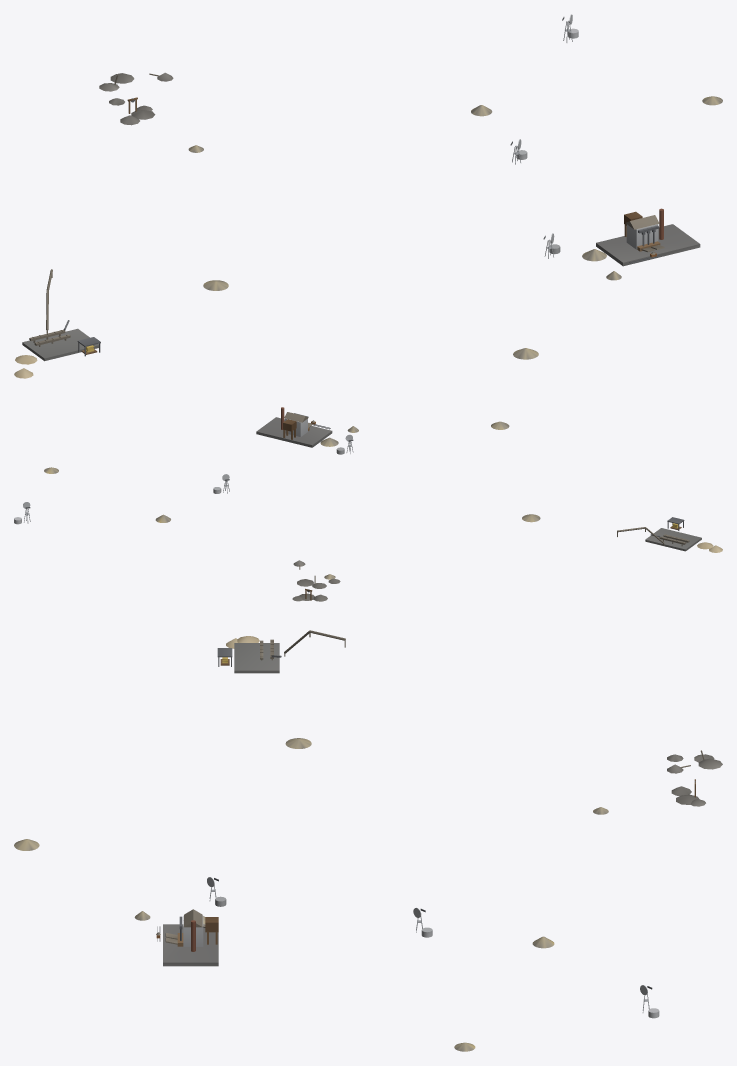
The model's file is Theme_P1.fbx.
3 views of the same model, one above another, from view 1: azimuth 30°, elevation 25°; view 2: azimuth 150°, elevation 25°; view 3: azimuth 270°, elevation 25° (orthographic). The views are drawn at different scales.
Parts seen in each view (by area): view 1: Theme.StampMill, Theme.Sluices, Theme.Diggings; view 2: Theme.StampMill, Theme.Sluices, Theme.Diggings; view 3: Theme.StampMill, Theme.Sluices, Theme.Diggings.
Part boxes in pixels (x1,y1,x2,y2): Theme.StampMill: (596, 208, 700, 266); Theme.Sluices: (22, 320, 98, 361); Theme.Diggings: (99, 72, 173, 125); Theme.StampMill: (256, 407, 332, 447); Theme.Sluices: (645, 528, 701, 551); Theme.Diggings: (292, 560, 340, 601); Theme.StampMill: (163, 909, 218, 966); Theme.Sluices: (234, 639, 281, 673); Theme.Diggings: (667, 750, 722, 806).
Bounding box in the file's own units: 38222 × 2731 × 28153.
